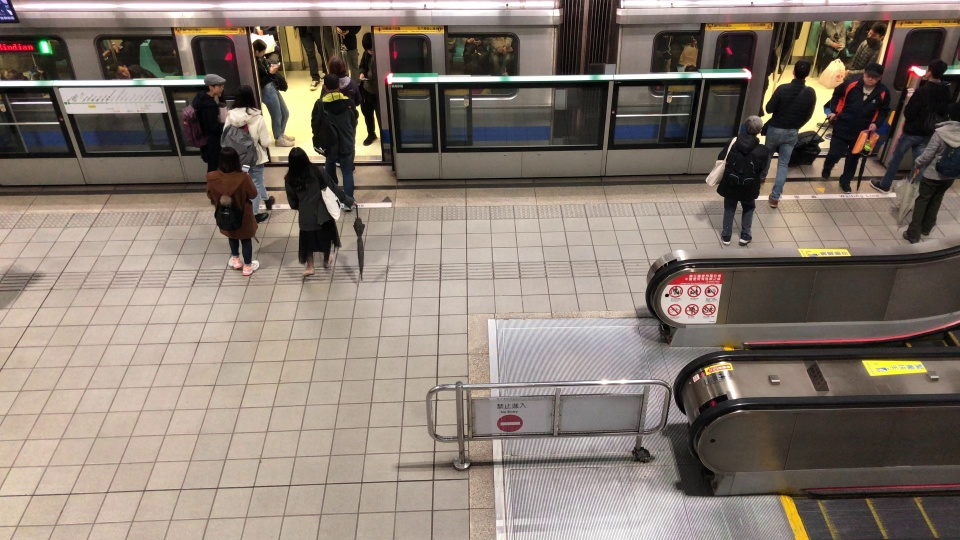person_head: (284, 147, 316, 184), (860, 59, 885, 90), (212, 145, 239, 171), (229, 85, 257, 110), (922, 59, 948, 85), (865, 21, 889, 46), (937, 103, 959, 128), (202, 72, 224, 96), (741, 115, 763, 139), (325, 54, 347, 78), (791, 60, 812, 85), (320, 74, 342, 94), (360, 32, 377, 55), (252, 38, 267, 60)
person_vbox: (869, 59, 952, 189), (746, 60, 817, 211), (278, 146, 357, 275), (821, 61, 893, 194), (817, 22, 889, 143), (902, 102, 960, 247), (220, 84, 278, 222), (203, 146, 262, 276), (716, 116, 771, 249), (309, 75, 361, 213), (174, 72, 227, 204), (307, 55, 364, 173), (250, 38, 298, 148), (357, 32, 387, 145)
